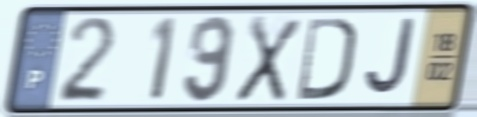1: (148, 14, 178, 104)
2: (57, 15, 120, 106)
9: (183, 12, 238, 106)
D: (294, 14, 358, 103)
J: (362, 16, 417, 100)
X: (231, 13, 305, 105)
